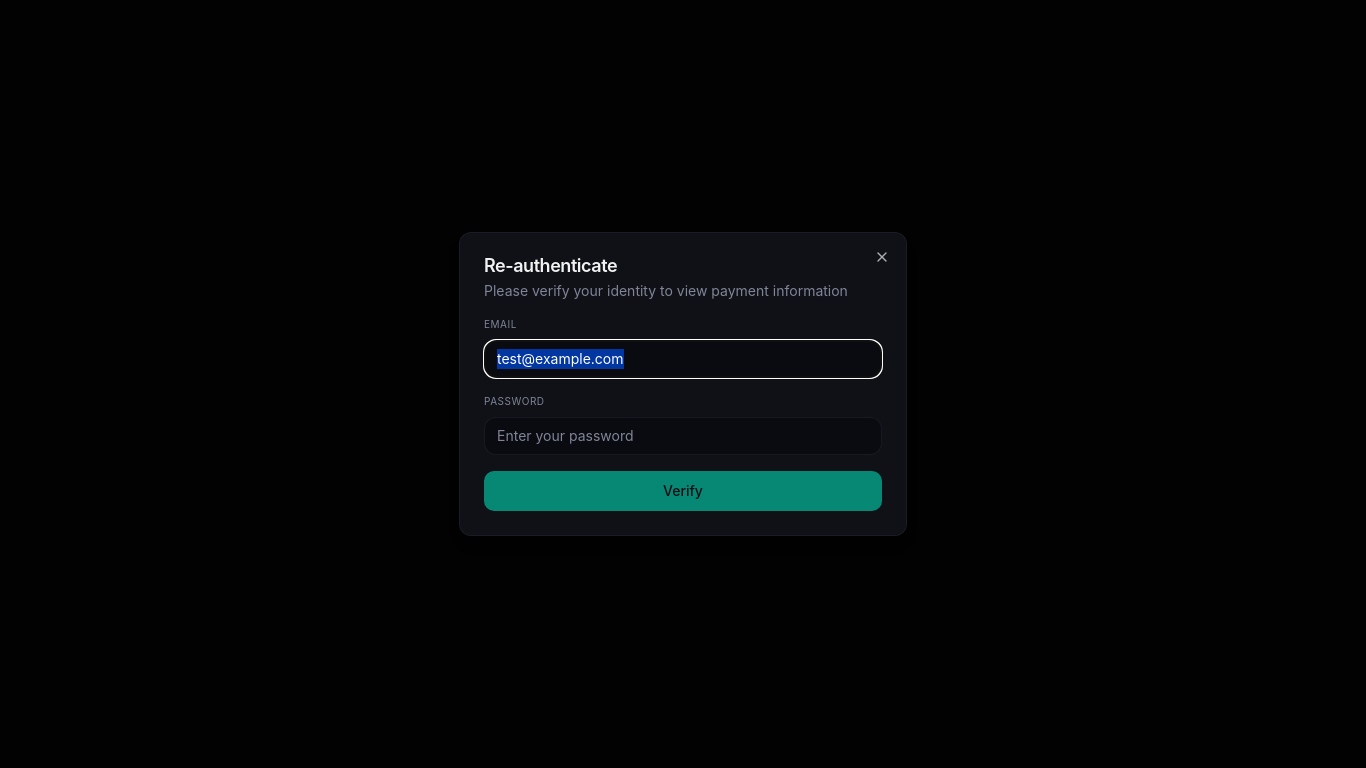
it: ReAuthModal › shows error message on bad password
The width and height of the screenshot is (1366, 768).
In the password field with placeholder "Enter your password": x=683, y=436 left=484, top=417, right=882, bottom=455, type "wrongpassword"
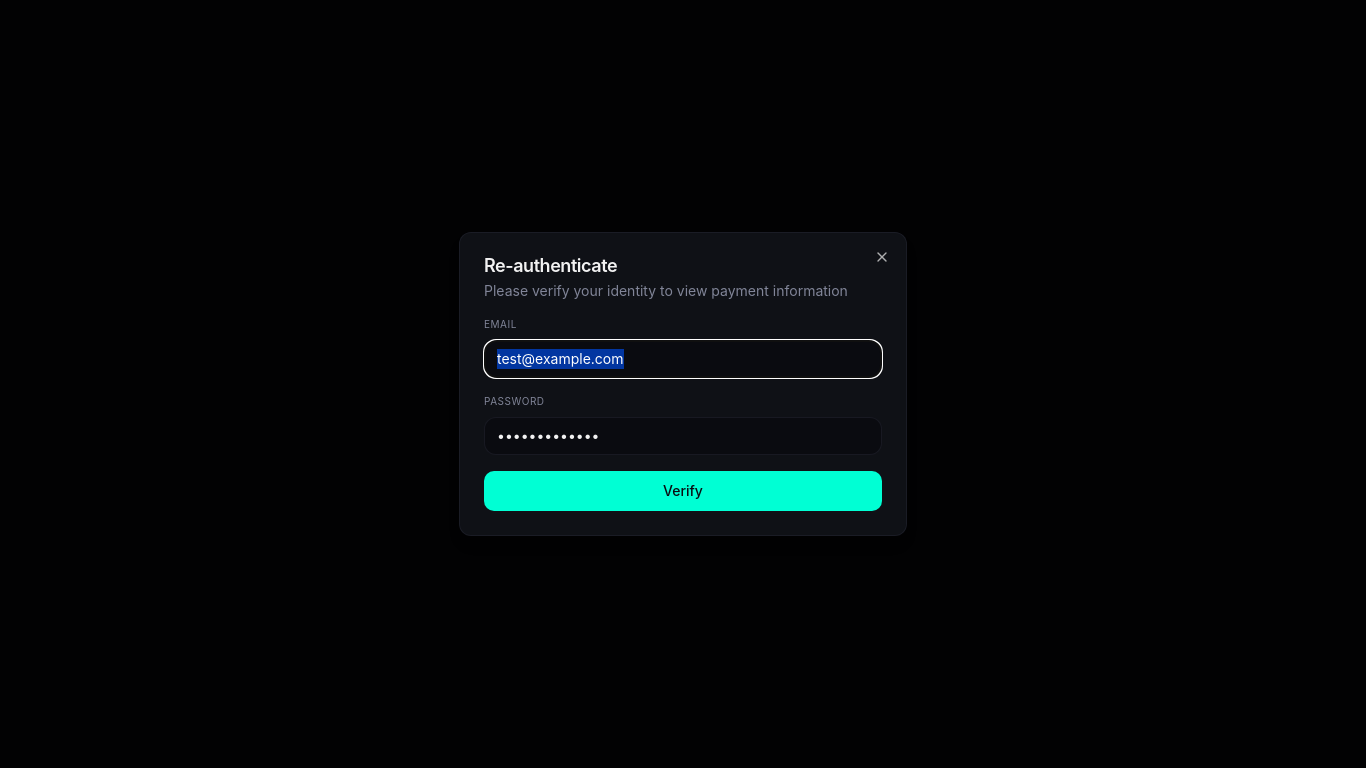
Click the button "Verify": x=683, y=491 left=484, top=471, right=882, bottom=511
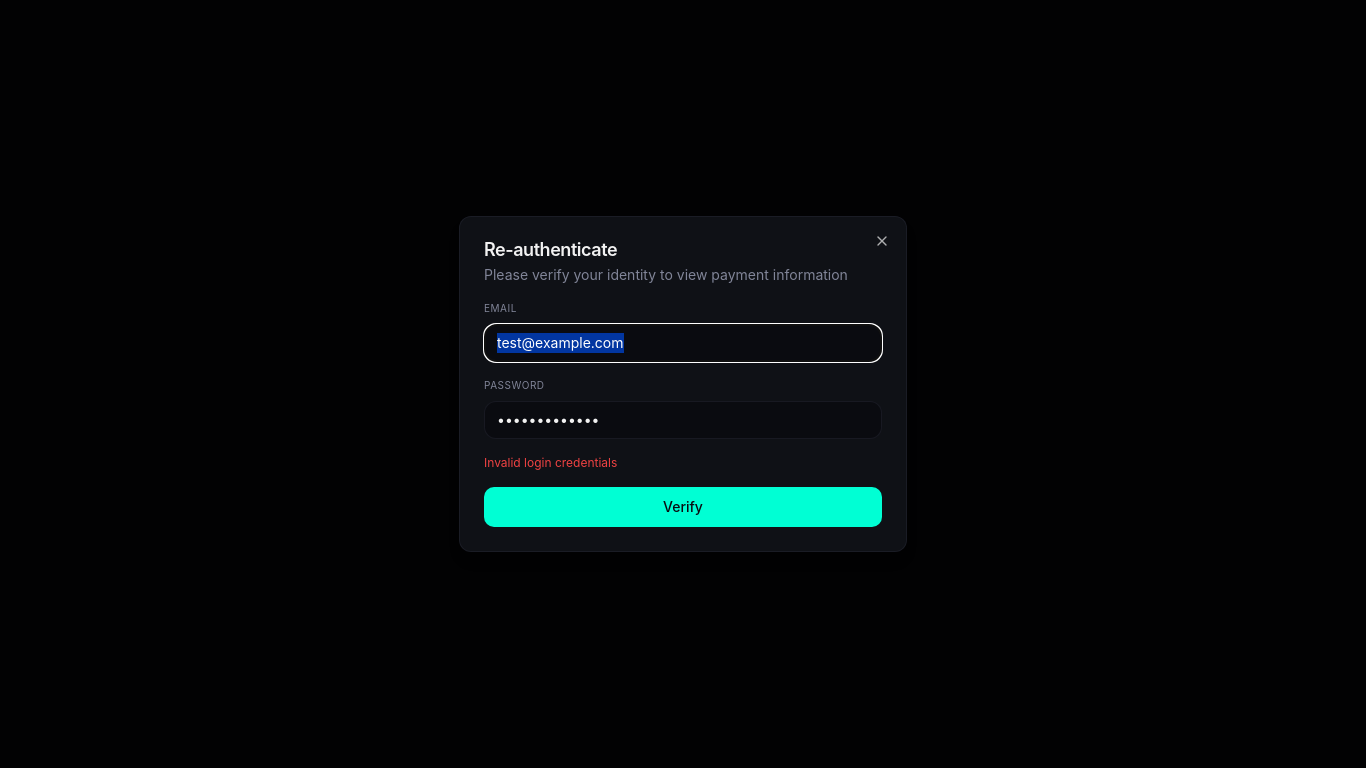
Result: the text "Invalid login credentials" is shown at left=484, top=455, right=617, bottom=470
